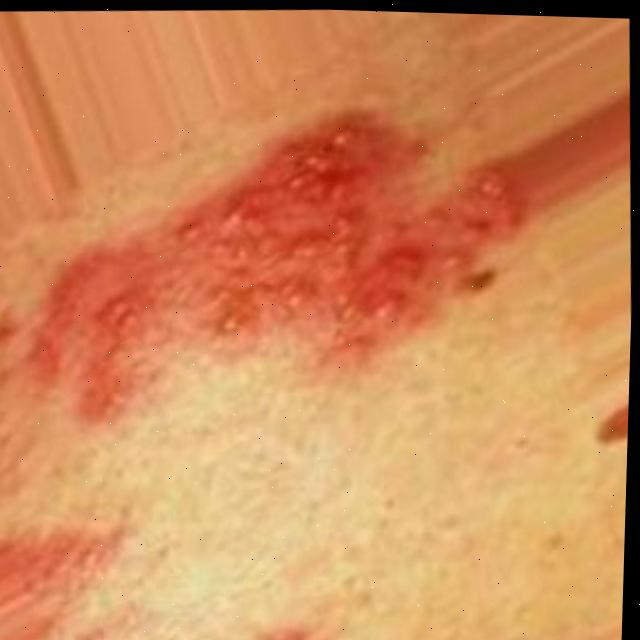Shingles: (76, 98, 501, 389), (13, 524, 105, 590), (255, 626, 307, 640)
